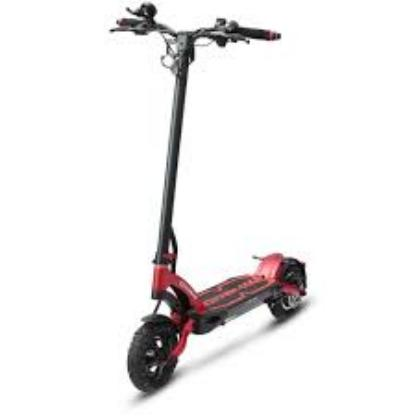bike: (118, 1, 312, 394), (127, 250, 309, 394)
